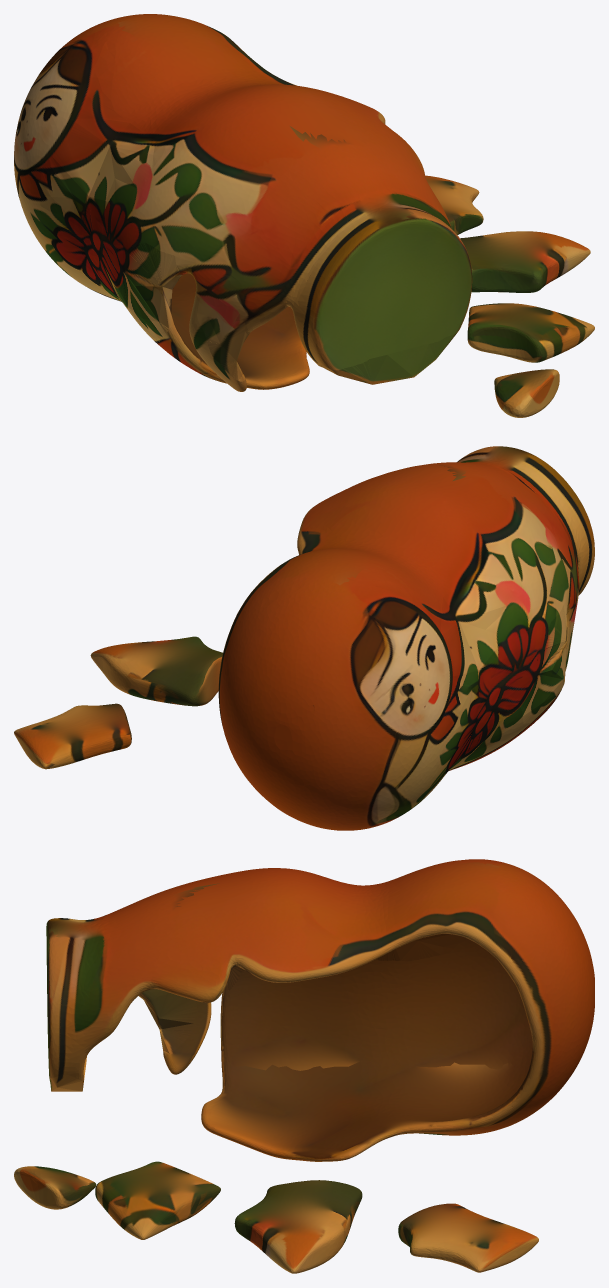
The picture shows the model from 3 angles, top to bottom: view 1: azimuth 30°, elevation 25°; view 2: azimuth 150°, elevation 25°; view 3: azimuth 270°, elevation 25°; orthographic projection. The views are drawn at different scales.
Parts seen in each view (by area): view 1: texture_pbr_v128; view 2: texture_pbr_v128; view 3: texture_pbr_v128.
Part boxes in pixels (box(x1,y1,x2,y2)): texture_pbr_v128: box(14, 14, 594, 417); texture_pbr_v128: box(14, 446, 594, 830); texture_pbr_v128: box(14, 859, 594, 1273).
Size of the model in its own units: 0.9281 by 0.5245 by 1.03.
1 material, 1 textured.
